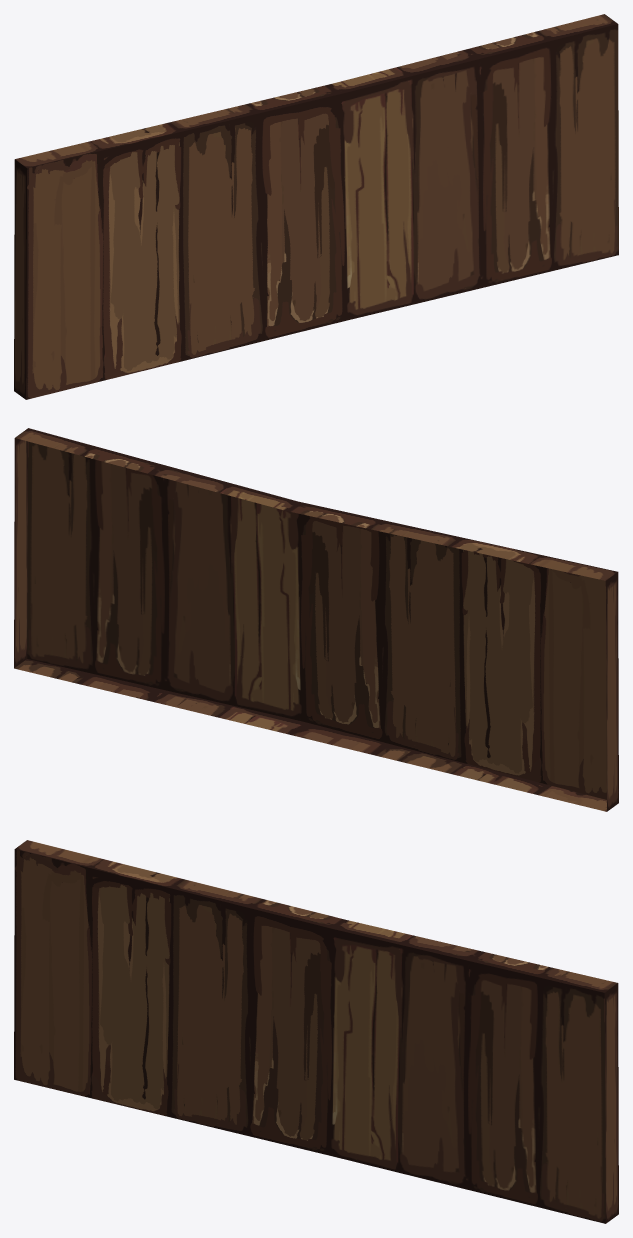
The model's file is SM_PROP_planks_dungeon_06.fbx.
3 renders of one model, top to bottom at view 1: azimuth 30°, elevation 25°; view 2: azimuth 150°, elevation 25°; view 3: azimuth 330°, elevation 25°, orthographic.
Parts seen in each view (by area): view 1: SM_PROP_planks_dungeon_06; view 2: SM_PROP_planks_dungeon_06; view 3: SM_PROP_planks_dungeon_06.
Boxes of the visible parts, x1,y1,x2,y2 form: SM_PROP_planks_dungeon_06: (14, 14, 618, 399); SM_PROP_planks_dungeon_06: (14, 428, 618, 811); SM_PROP_planks_dungeon_06: (14, 840, 618, 1223).
Size of the model in its own units: 404 by 151 by 20.14.
